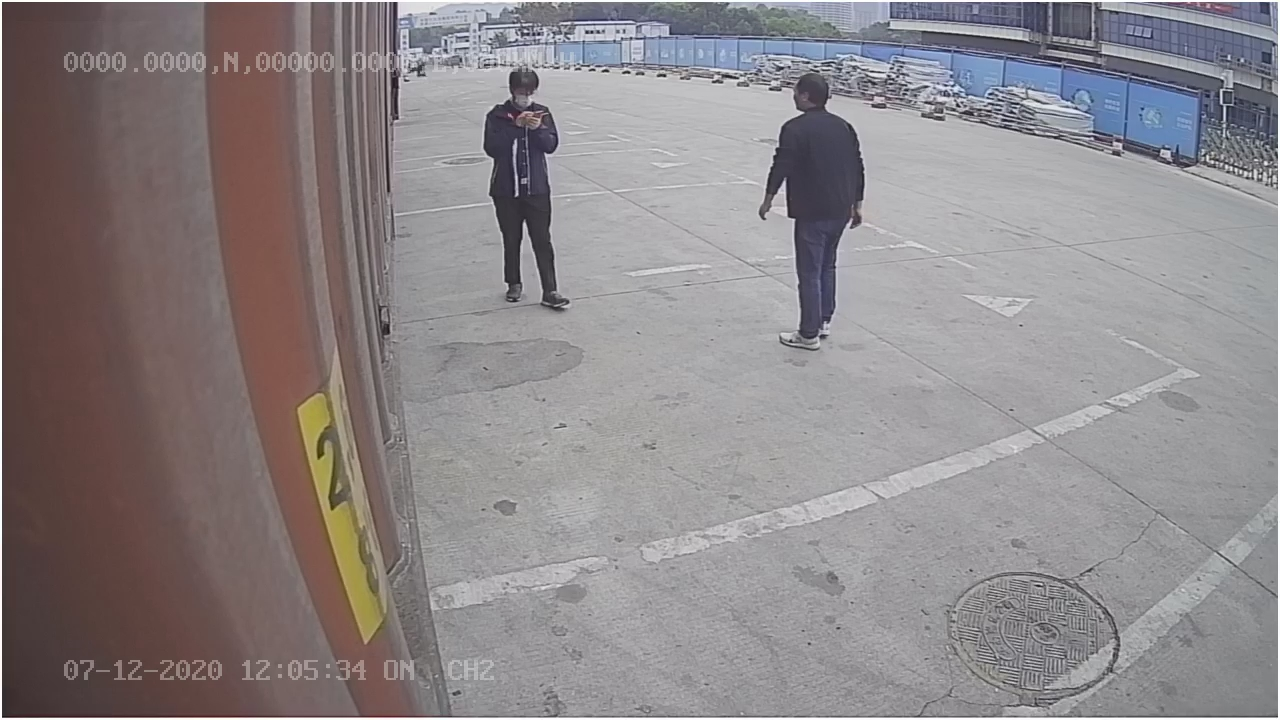person: (755, 68, 863, 358), (478, 67, 575, 313)
